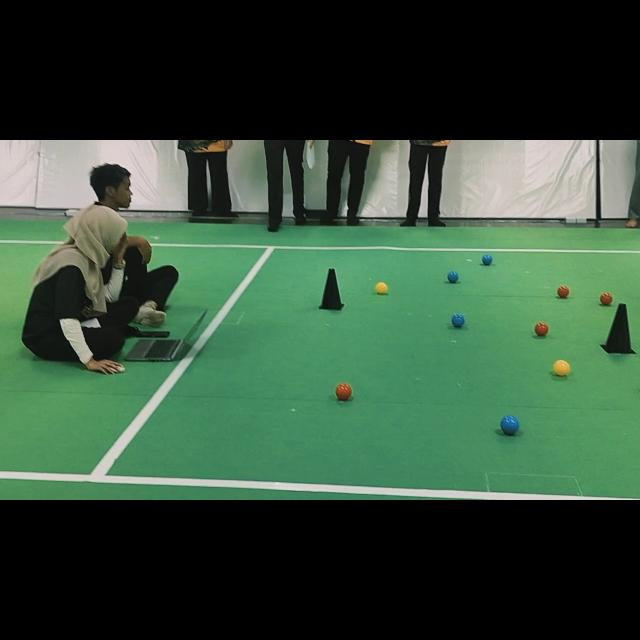ball: (500, 415, 520, 434), (335, 382, 352, 401), (552, 360, 571, 376), (535, 321, 549, 336), (451, 314, 465, 328), (600, 292, 614, 305), (556, 285, 570, 298), (375, 281, 388, 294), (448, 271, 459, 283), (481, 254, 492, 265), (552, 360, 561, 368)
